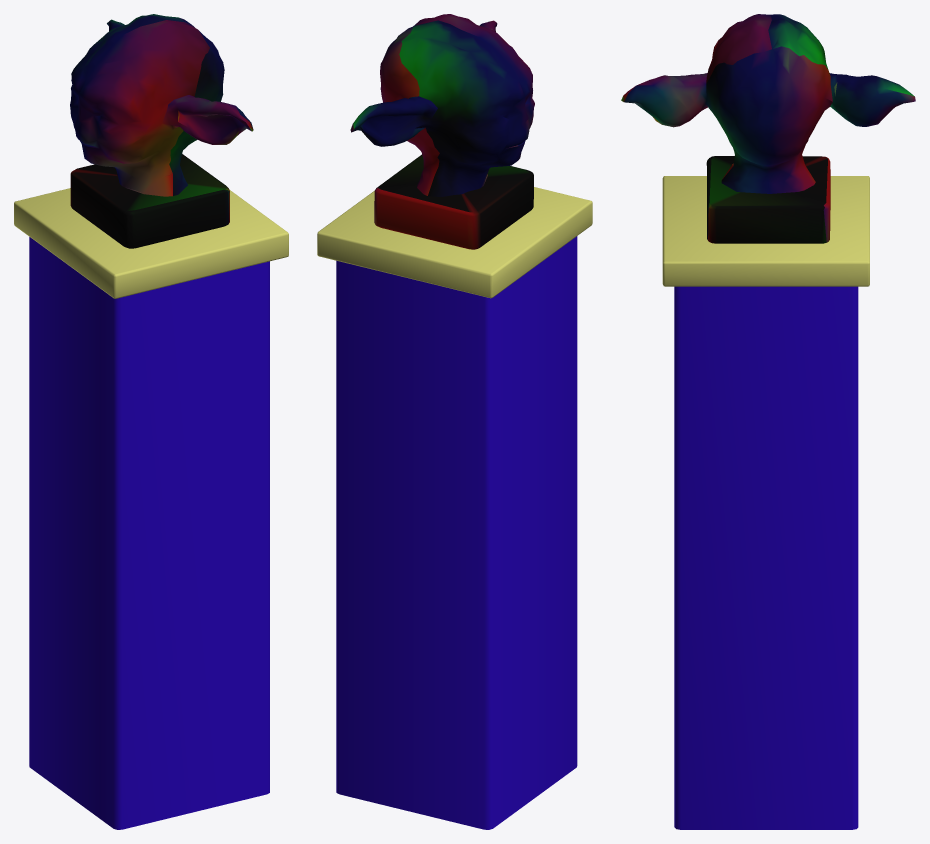
File: mestre-yoda-busto.FBX
3 renders of one model, left to right at view 1: azimuth 30°, elevation 25°; view 2: azimuth 150°, elevation 25°; view 3: azimuth 270°, elevation 25°, orthographic. The views are drawn at different scales.
Parts seen in each view (by area): view 1: y_suporte, y_cabeca; view 2: y_suporte, y_cabeca; view 3: y_suporte, y_cabeca.
Part boxes in pixels (x1,y1,x2,y2): y_suporte: (14,188,288,829); y_cabeca: (70,14,253,248); y_suporte: (317,187,592,829); y_cabeca: (350,14,534,249); y_suporte: (662,176,869,829); y_cabeca: (621,14,915,243).
Size of the model in its own units: 44.3 by 183 by 63.17.
